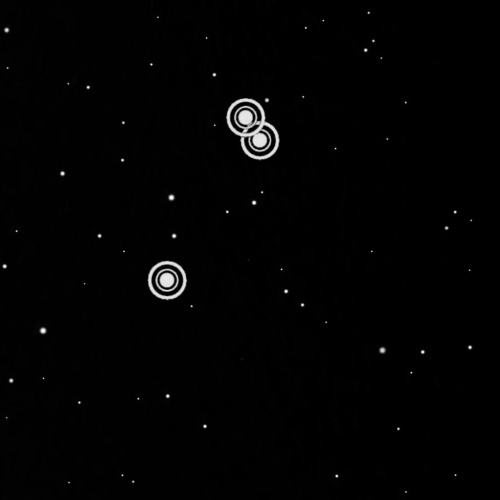canis_minor: (142, 91, 287, 307)
